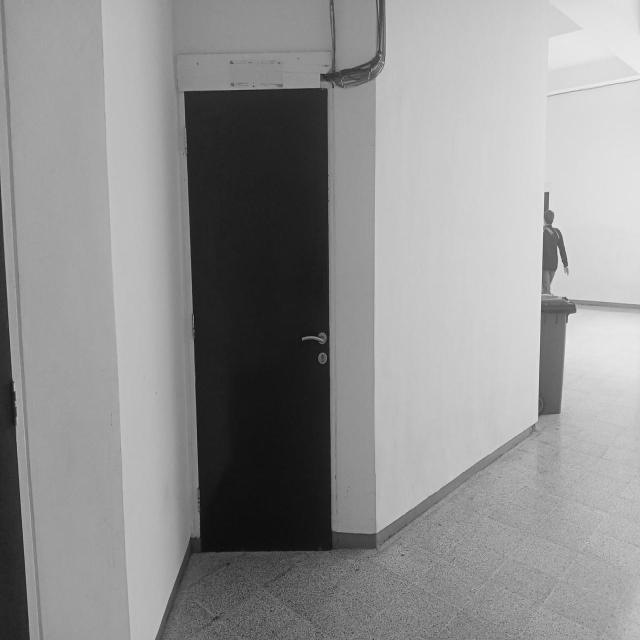door: (180, 83, 336, 558)
